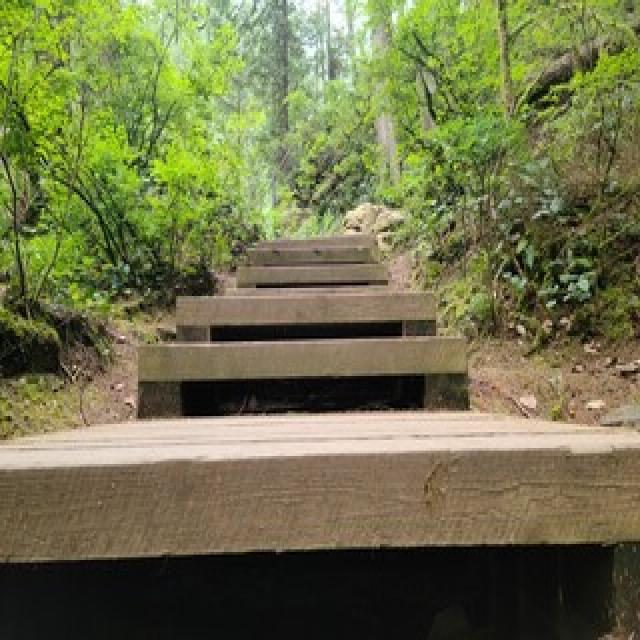stair: (0, 235, 638, 563)
